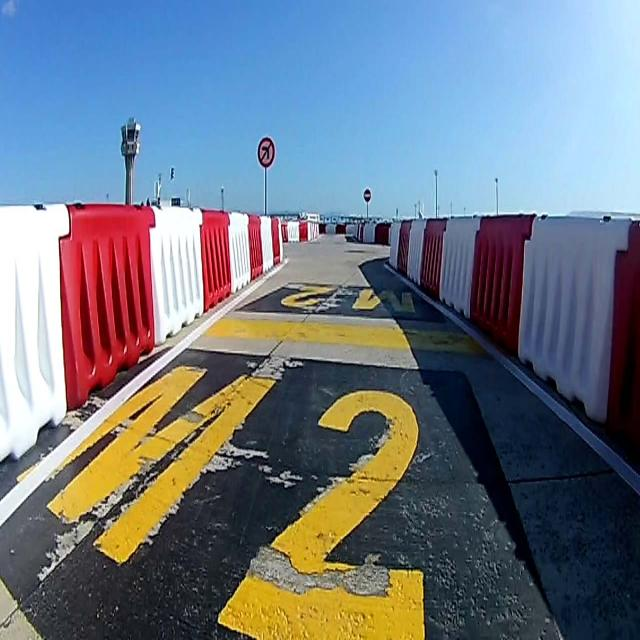soladonulmez: (258, 137, 274, 166)
